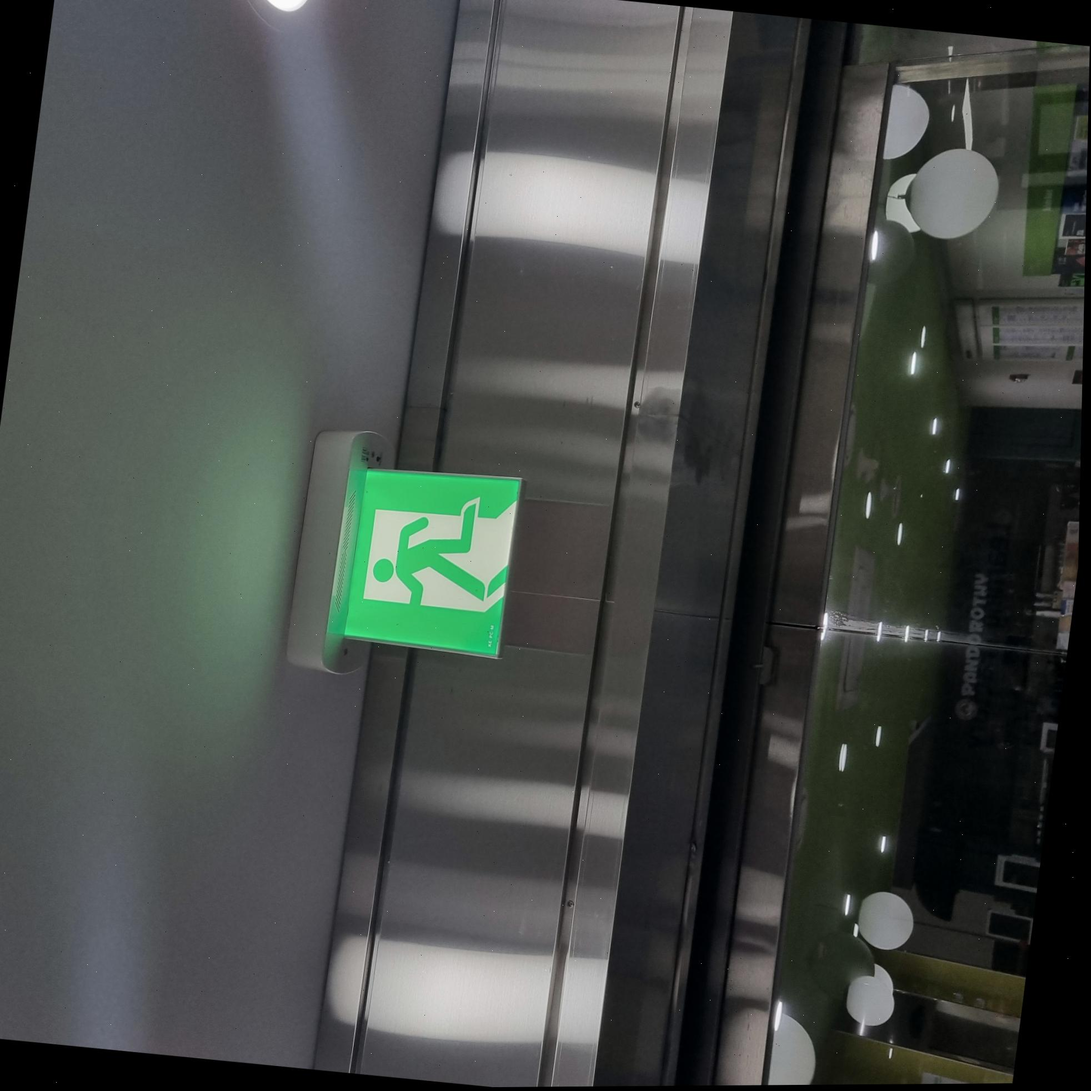emergency_exit: (323, 445, 525, 671)
